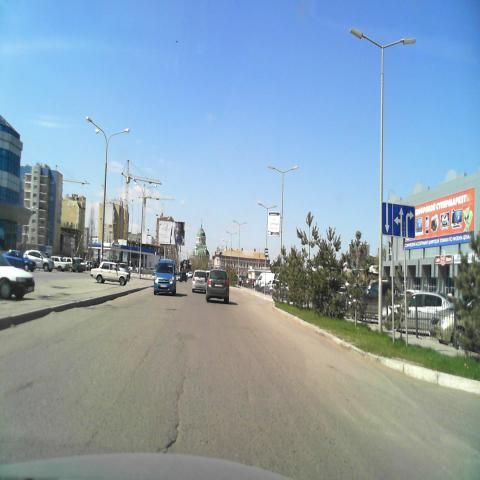5_15_7: (382, 203, 416, 239)
